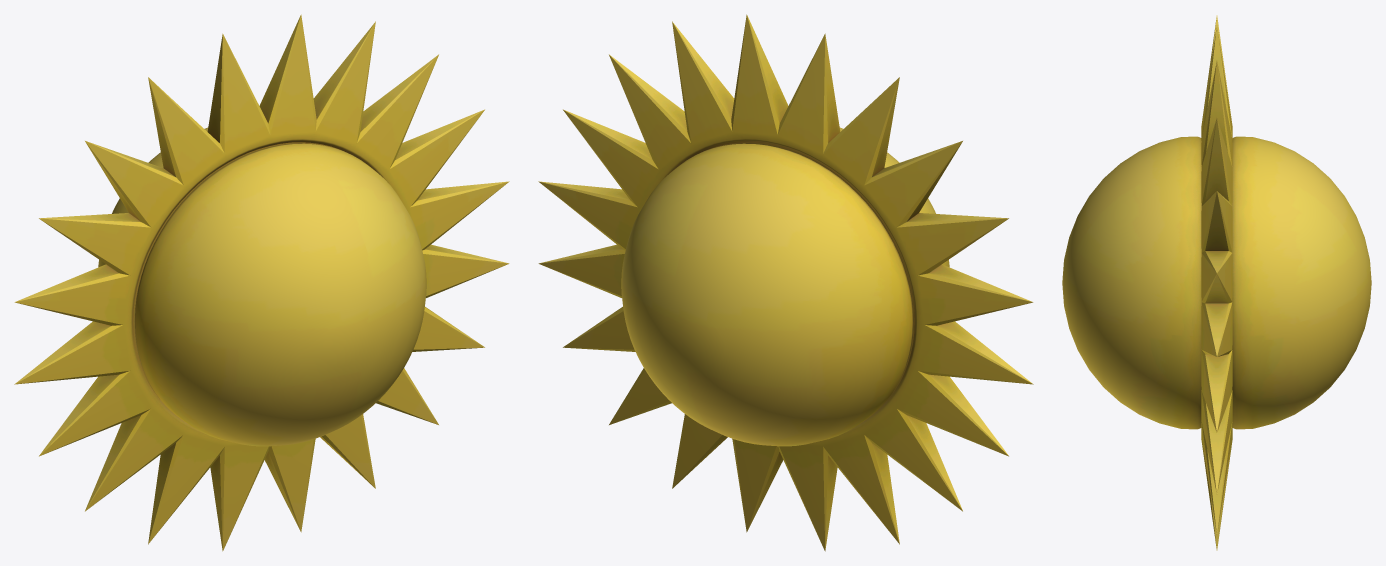
File: sun.fbx
The picture shows the model from 3 angles, left to right: view 1: azimuth 30°, elevation 25°; view 2: azimuth 150°, elevation 25°; view 3: azimuth 270°, elevation 25°; orthographic projection. The views are drawn at different scales.
Visible parts, largest first — view 1: node_id5; view 2: node_id5; view 3: node_id5.
Part boxes in pixels (x1,y1,x2,y2): node_id5: (14, 14, 509, 551); node_id5: (538, 14, 1033, 551); node_id5: (1062, 15, 1371, 550).
Bounding box in the file's own units: 0.512 × 0.512 × 0.298.
Materials: 1 (1 with a texture image).
